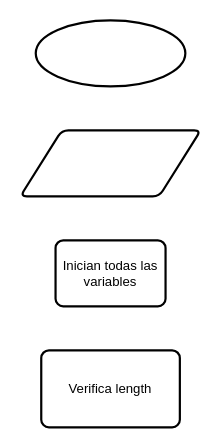
Image size: 220x447. Some labels were removed from this diagram. The box of each missing label's shape, as (x1, y1, x2, y2) in pixels:
Extrae 'asunto' y 'nombre_remitente': (19, 129, 201, 197)
Llega un correo con archivos adjuntos: (34, 19, 186, 87)
